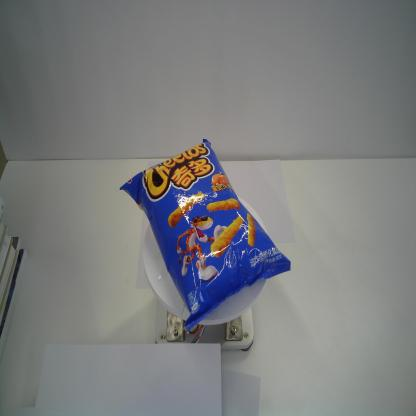Puffed Food: (119, 138, 292, 333)
